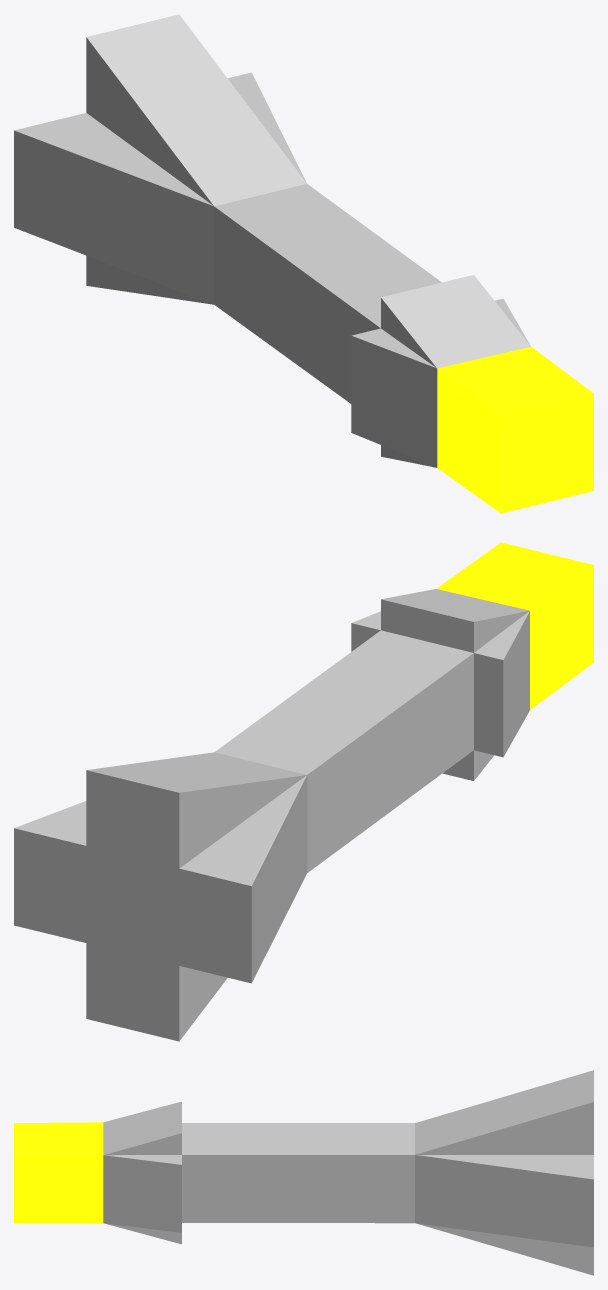
File: Missile.fbx
The picture shows the model from 3 angles, top to bottom: view 1: azimuth 30°, elevation 25°; view 2: azimuth 150°, elevation 25°; view 3: azimuth 270°, elevation 25°; orthographic projection. The views are drawn at different scales.
Visible parts, largest first — view 1: Missile; view 2: Missile; view 3: Missile.
Part boxes in pixels (x1,y1,x2,y2): Missile: (14, 14, 593, 513); Missile: (14, 542, 593, 1041); Missile: (14, 1070, 593, 1275).
Size of the model in its own units: 52.55 by 52.55 by 159.
